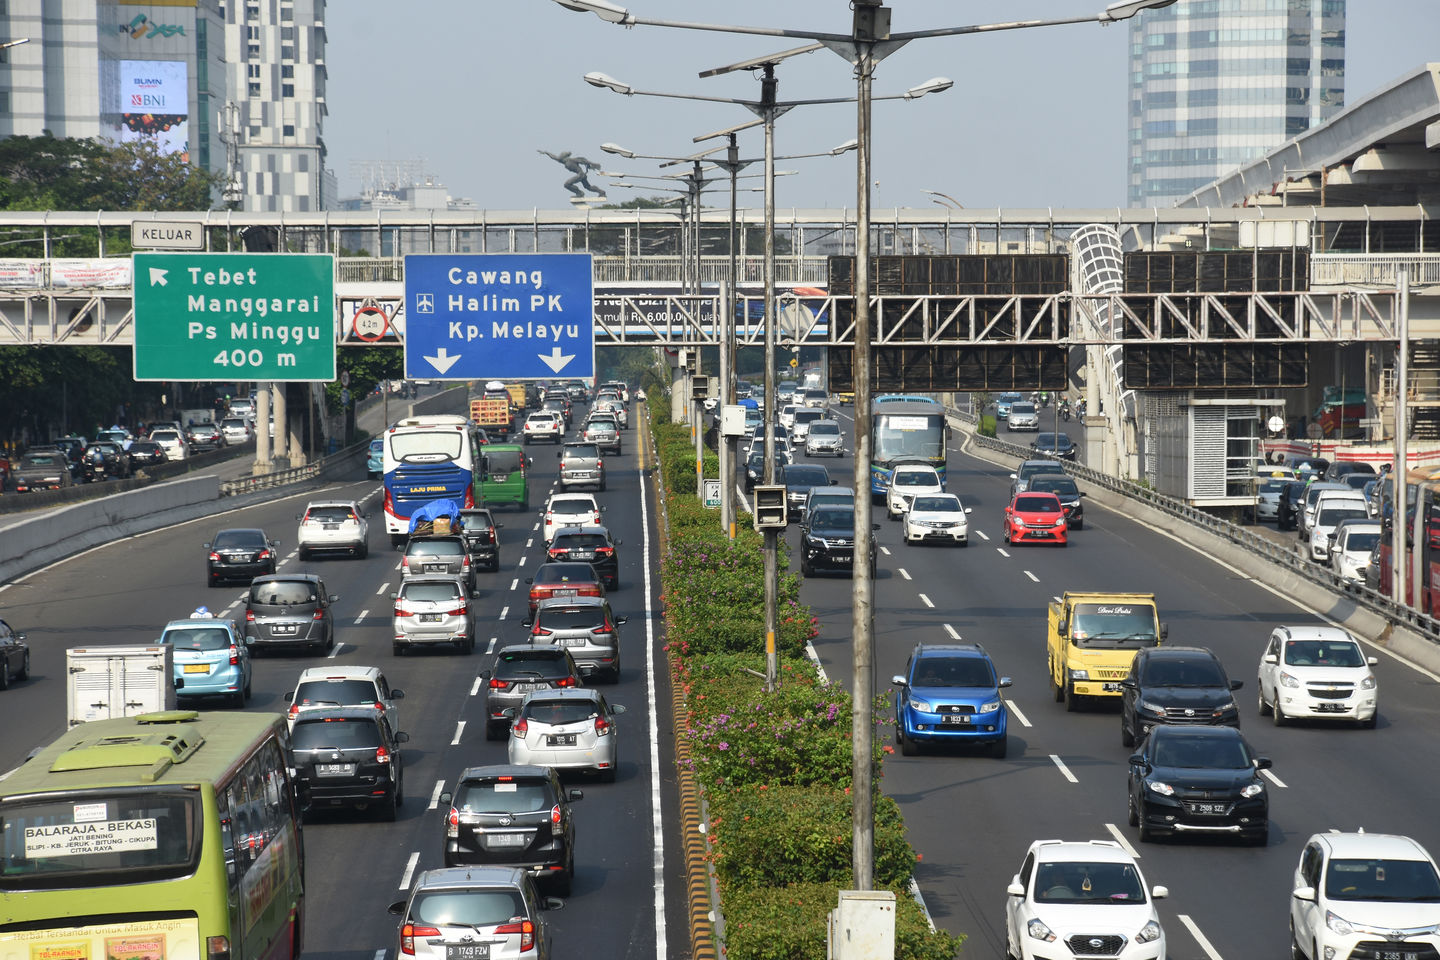car: (1, 711, 304, 960), (1004, 838, 1171, 960), (1288, 830, 1439, 960), (1121, 722, 1272, 843), (443, 768, 575, 886), (283, 704, 404, 826), (1045, 589, 1163, 714), (412, 862, 549, 960), (1260, 621, 1378, 734), (385, 416, 484, 549), (900, 640, 1008, 762), (68, 640, 175, 761), (283, 667, 403, 768), (1128, 655, 1242, 755), (507, 690, 622, 776), (488, 644, 581, 740), (150, 613, 252, 701), (869, 397, 948, 503), (534, 602, 620, 680), (249, 573, 329, 651), (802, 502, 878, 581), (397, 578, 471, 656), (530, 563, 607, 622), (208, 529, 280, 590), (397, 536, 476, 591), (298, 503, 368, 558), (1337, 527, 1398, 586), (1314, 499, 1369, 563), (1007, 493, 1067, 549), (479, 446, 527, 513), (544, 495, 604, 546), (1015, 460, 1069, 515), (906, 495, 969, 543), (17, 450, 70, 505), (780, 463, 833, 518), (893, 464, 943, 520), (808, 485, 856, 541), (1029, 476, 1082, 525), (560, 442, 603, 489), (467, 397, 513, 439), (1034, 431, 1080, 468), (747, 454, 789, 495), (583, 419, 621, 458), (807, 420, 845, 458), (522, 413, 562, 445), (792, 409, 823, 446), (1006, 403, 1039, 434)
